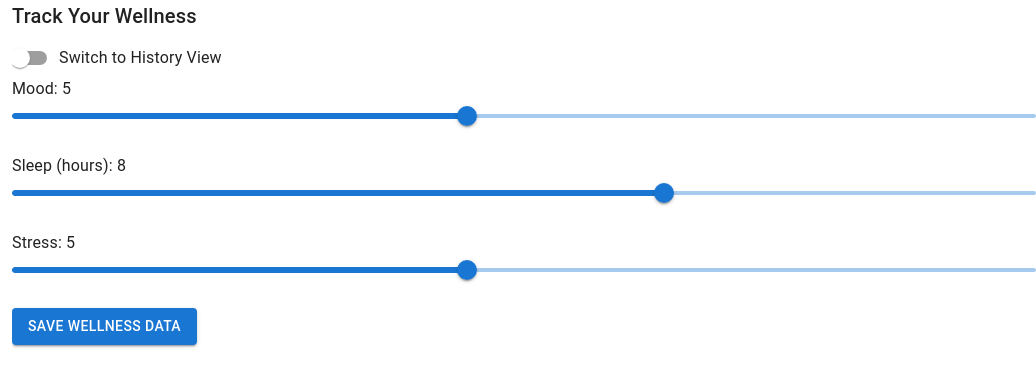
Test: WellnessTracker Component › displays error message when save fails
Click the button "Save Wellness Data".
click(105, 326)  # box [12,308,197,344]
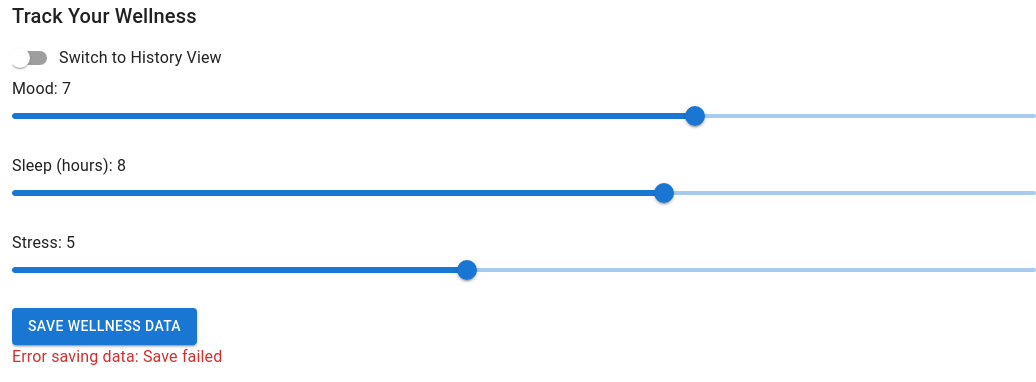
Expected: the text "Error saving data: Save failed" is shown, [12,346,222,366]
